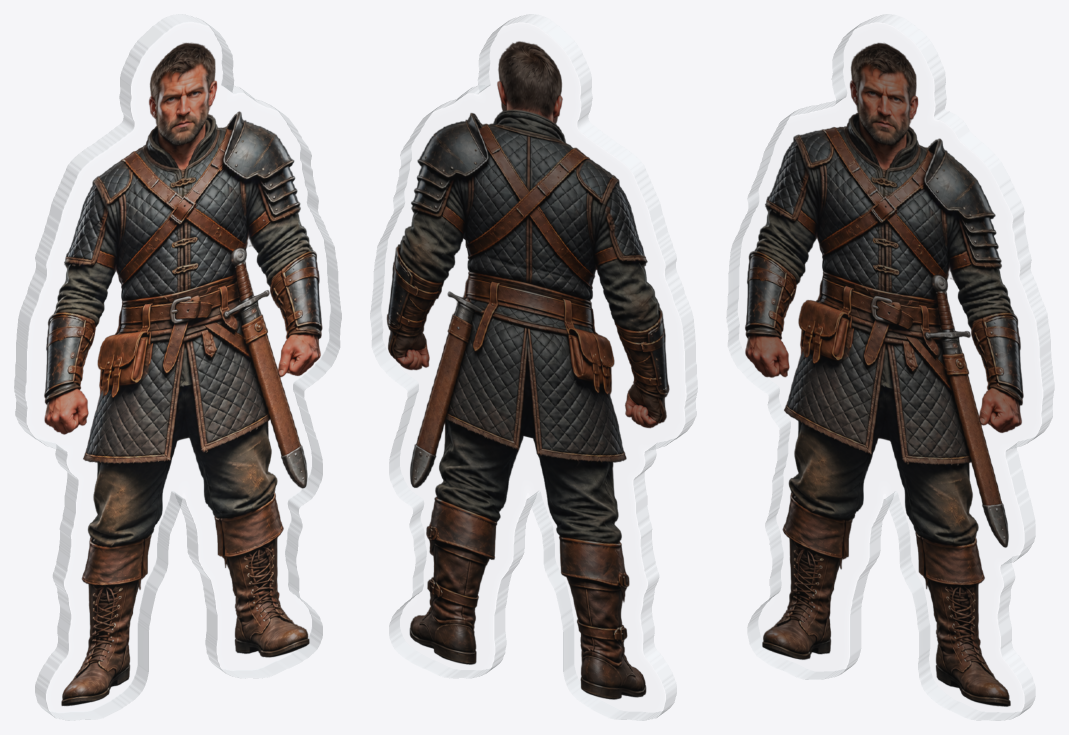
File: gareth-sheathed-visible.glb
3 views of the same model, side by side, from view 1: azimuth 30°, elevation 25°; view 2: azimuth 150°, elevation 25°; view 3: azimuth 330°, elevation 25° (orthographic).
Parts seen in each view (by area): view 1: preview_standee; view 2: preview_standee; view 3: preview_standee.
Part boxes in pixels (x1,y1,x2,y2): preview_standee: [14, 14, 341, 720]; preview_standee: [370, 14, 697, 720]; preview_standee: [726, 14, 1054, 720].
Bounding box in the file's own units: 0.6384 × 1.3 × 0.04.
Materials: 3 (2 with a texture image).
